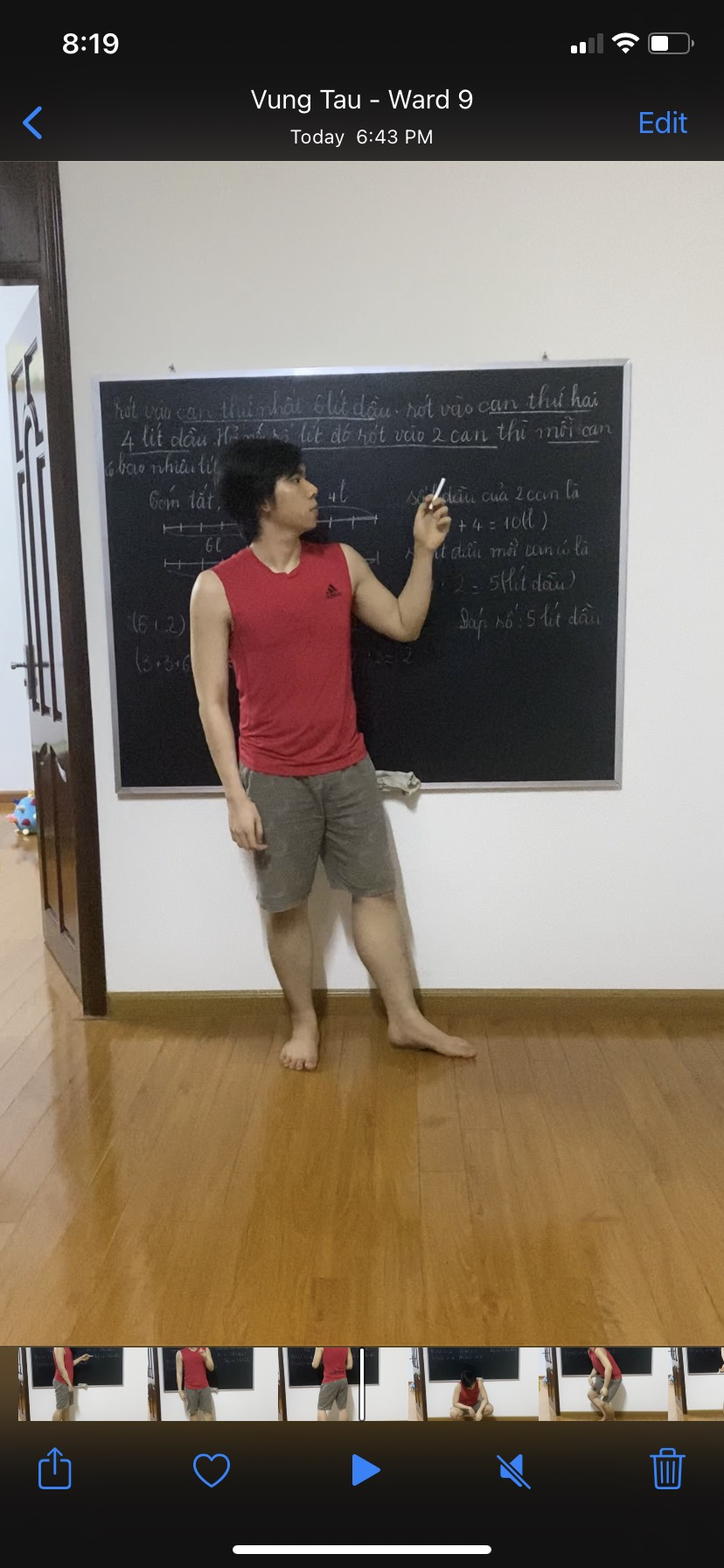cigarette: (434, 473, 451, 497)
person: (184, 432, 484, 1088)
